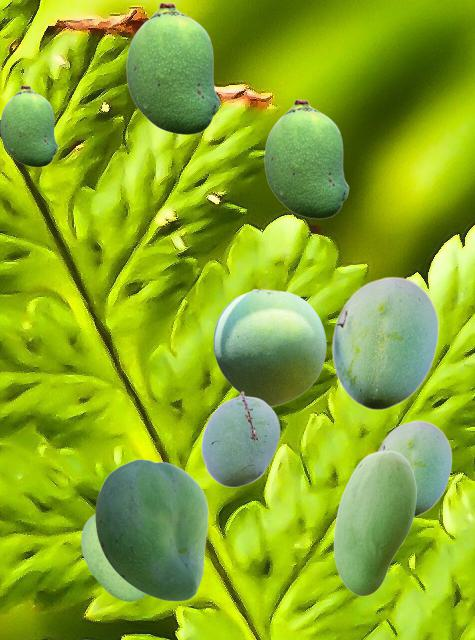green_mango: (95, 459, 207, 600), (331, 276, 438, 409), (213, 288, 325, 405), (126, 2, 219, 134), (333, 450, 415, 595), (264, 99, 348, 218), (201, 391, 279, 486), (377, 420, 451, 517), (81, 513, 146, 600), (0, 85, 57, 166)
